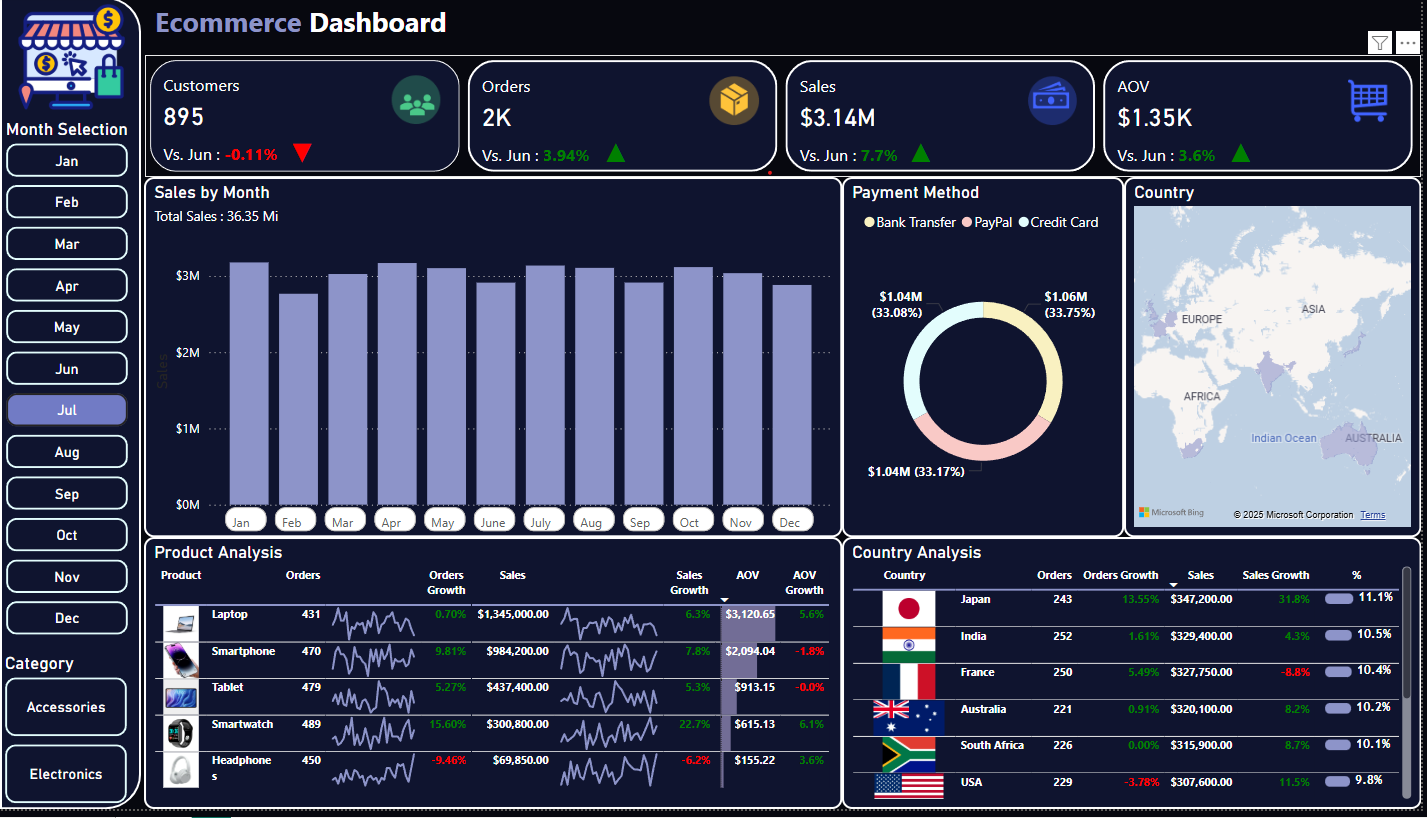

The page's visual inventory and layout, read from the dashboard file:
{"tool":"powerbi","page":{"name":"Page 1","canvas":[1400,800],"ordinal":0},"visuals":[{"type":"clusteredColumnChart","fields":{"Y":["All Measures.Sales"],"Category":["Calendar.Month"]},"box":[141.7,177.4,687.7,354.8],"z":0},{"type":"shape","box":[0,0,139,800.2],"z":1000},{"type":"cardVisual","fields":{"Data":["All Measures.Customers","All Measures.Orders","All Measures.Sales","All Measures.AOV"]},"box":[142.7,57.6,1257.4,119.8],"z":2000},{"type":"advancedSlicerVisual","fields":{"Values":["Month Parameter.Month Parameter"]},"box":[216.7,497.5,596.3,34.8],"z":3000},{"type":"advancedSlicerVisual","title":"Month Selection","fields":{"Values":["Calendar.Month"]},"box":[0.9,119.8,130.8,518.5],"z":4000},{"type":"advancedSlicerVisual","title":"Category","fields":{"Values":["dimProduct.Category"]},"box":[0,646.6,130.8,153.6],"z":5000},{"type":"card","fields":{"Values":["All Measures.Icon"]},"box":[277.1,134.4,41.2,37.5],"z":6000},{"type":"card","fields":{"Values":["All Measures.Icon Orders"]},"box":[587.1,134.4,39.3,37.5],"z":7000},{"type":"donutChart","title":"Payment Method","fields":{"Y":["All Measures.Sales"],"Category":["dimPaymentMethod.Payment Method"]},"box":[829.4,177.4,278,354.8],"z":8000},{"type":"card","fields":{"Values":["All Measures.Icon Orders"]},"box":[888,134.4,39.3,37.5],"z":9000},{"type":"card","fields":{"Values":["All Measures.Icon Orders"]},"box":[1202.6,134.4,39.3,37.5],"z":10000},{"type":"filledMap","fields":{"Category":["dimCountry.Country"]},"box":[1107.5,177.4,292.6,354.8],"z":11000},{"type":"tableEx","title":"Product Analysis","fields":{"Values":["dimProduct.Img","dimProduct.Product Name","All Measures.Orders","SparklineData(All Measures.Orders_[Calendar.Day])","All Measures.Orders Growth","All Measures.Sales","SparklineData(All Measures.Sales_[Calendar.Day])","All Measures.Sales Growth","All Measures.AOV","All Measures.AOV Growth"]},"box":[141.7,532.2,687.7,267.9],"z":12000},{"type":"tableEx","title":"Country Analysis","fields":{"Values":["dimCountry.Img","dimCountry.Country","All Measures.Orders","All Measures.Orders Growth","All Measures.Sales","All Measures.Sales Growth","All Measures.Continent Rounded Bar Chart"]},"box":[829.4,532.2,570.6,267.9],"z":13000},{"type":"image","box":[0,0,139,118],"z":14000},{"type":"textbox","box":[148.1,0,310,57.6],"z":15000}]}

Visuals, with their boxes in screenshot pixels (x1, y1, x2, y2), scaled from the page's 1400x800 canvas onto the 1427x818 screenshot:
clusteredColumnChart - All Measures.Sales x Calendar.Month: region(144, 181, 845, 544)
shape: region(0, 0, 142, 817)
cardVisual - All Measures.Customers x All Measures.Orders: region(145, 59, 1426, 181)
advancedSlicerVisual - Month Parameter.Month Parameter: region(221, 509, 829, 544)
"Month Selection" advancedSlicerVisual: region(1, 122, 134, 653)
"Category" advancedSlicerVisual: region(0, 661, 133, 817)
card - All Measures.Icon: region(282, 137, 324, 176)
card - All Measures.Icon Orders: region(598, 137, 638, 176)
"Payment Method" donutChart: region(845, 181, 1129, 544)
card - All Measures.Icon Orders: region(905, 137, 945, 176)
card - All Measures.Icon Orders: region(1226, 137, 1266, 176)
filledMap - dimCountry.Country: region(1129, 181, 1426, 544)
"Product Analysis" tableEx: region(144, 544, 845, 817)
"Country Analysis" tableEx: region(845, 544, 1426, 817)
image: region(0, 0, 142, 121)
textbox: region(151, 0, 467, 59)
